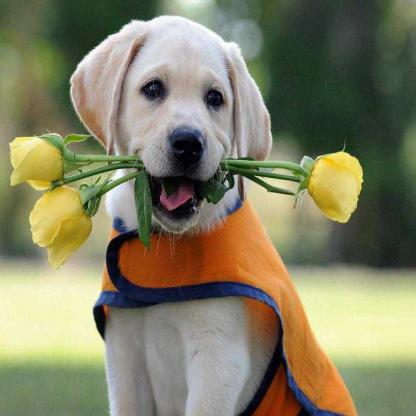Labarador Retriever: (66, 16, 358, 416)
